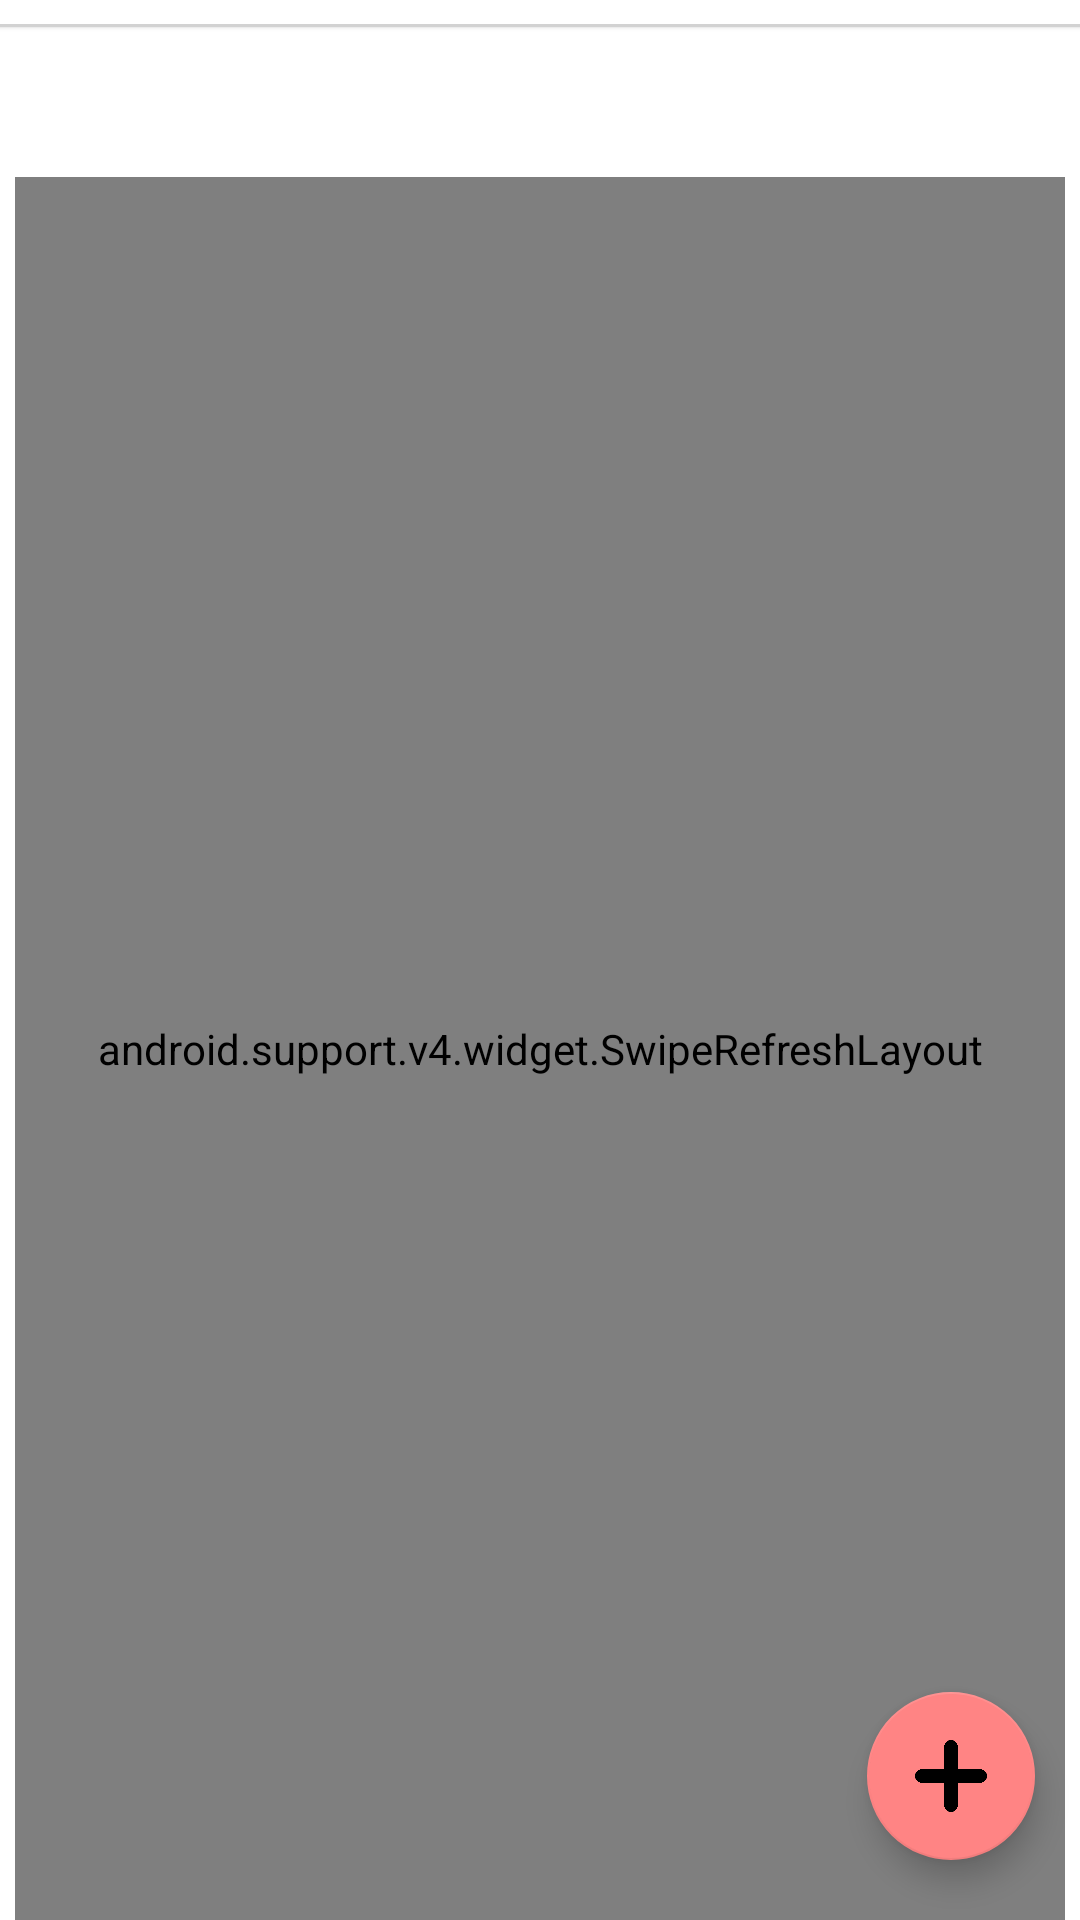

Where icons sit on this 1080x1920 app screen, as (x1, y1, x2, y2):
fab menu: (867, 1692, 1035, 1860)
